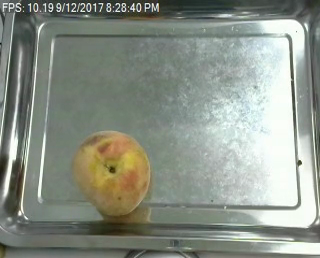Peach: (72, 129, 151, 217)
